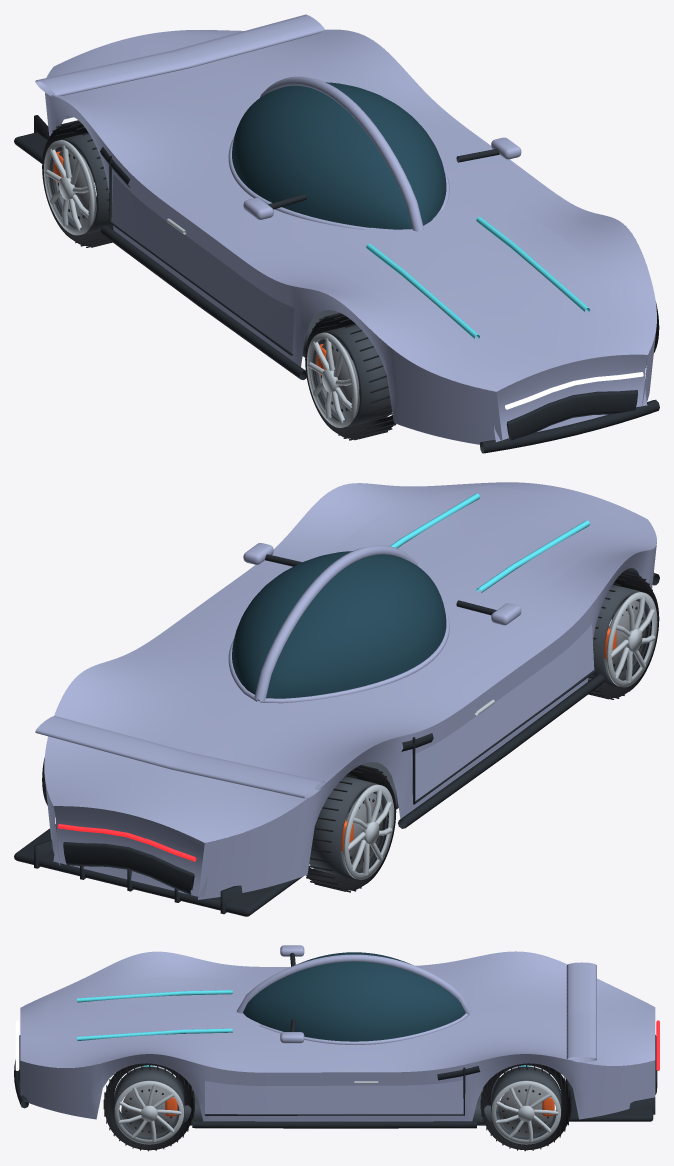
Rendered from concept-aurora.glb.
3 views of the same model, one above another, from view 1: azimuth 30°, elevation 25°; view 2: azimuth 150°, elevation 25°; view 3: azimuth 270°, elevation 25° (orthographic). The views are drawn at different scales.
Visible parts, largest first — view 1: Sculpted unibody upper shell, Hood, RoofGlass_canopy, SidePanelL_arched_fender_skin, DoorL, Wing, RimFrontL_layered_forged, FrontBumper, RimRearL_layered_forged, FrontBumper_carbon_inlet, RockerL, Roof_structural_spine (+11 smaller); view 2: Sculpted unibody upper shell, RoofGlass_canopy, Hood, SidePanelL_arched_fender_skin, DoorL, Wing, RimRearL_layered_forged, RearBumper, RimFrontL_layered_forged, Diffuser, RearBumper_carbon_inlet, RockerL (+10 smaller); view 3: Sculpted unibody upper shell, SidePanelR_arched_fender_skin, RoofGlass_canopy, Hood, DoorR, RimFrontR_layered_forged, RimRearR_layered_forged, Wing, RockerR, Roof_structural_spine, TireFrontR_directional_tread, TireRearR_directional_tread (+8 smaller).
Boxes of the visible parts, x1=… form: Sculpted unibody upper shell: x1=46, y1=29, x2=656, y2=391; Hood: x1=304, y1=199, x2=622, y2=366; RoofGlass_canopy: x1=232, y1=82, x2=446, y2=229; SidePanelL_arched_fender_skin: x1=45, y1=93, x2=502, y2=444; DoorL: x1=111, y1=170, x2=294, y2=353; Wing: x1=35, y1=14, x2=325, y2=96; RimFrontL_layered_forged: x1=307, y1=324, x2=391, y2=427; FrontBumper: x1=494, y1=354, x2=647, y2=442; RimRearL_layered_forged: x1=44, y1=133, x2=113, y2=235; FrontBumper_carbon_inlet: x1=506, y1=390, x2=637, y2=440; RockerL: x1=100, y1=225, x2=306, y2=379; Roof_structural_spine: x1=260, y1=76, x2=423, y2=231; Sculpted unibody upper shell: x1=44, y1=482, x2=656, y2=842; RoofGlass_canopy: x1=232, y1=551, x2=446, y2=700; Hood: x1=326, y1=485, x2=622, y2=609; SidePanelL_arched_fender_skin: x1=198, y1=543, x2=656, y2=899; DoorL: x1=411, y1=624, x2=594, y2=800; Wing: x1=35, y1=716, x2=324, y2=798; RimRearL_layered_forged: x1=309, y1=776, x2=394, y2=879; RearBumper: x1=53, y1=806, x2=207, y2=898; RimFrontL_layered_forged: x1=588, y1=584, x2=657, y2=687; Diffuser: x1=14, y1=824, x2=302, y2=916; RearBumper_carbon_inlet: x1=63, y1=842, x2=194, y2=894; RockerL: x1=398, y1=674, x2=604, y2=828; Sculpted unibody upper shell: x1=20, y1=951, x2=655, y2=1072; SidePanelR_arched_fender_skin: x1=20, y1=1054, x2=655, y2=1121; RoofGlass_canopy: x1=243, y1=952, x2=465, y2=1041; Hood: x1=44, y1=977, x2=259, y2=1050; DoorR: x1=205, y1=1080, x2=463, y2=1114; RimFrontR_layered_forged: x1=114, y1=1066, x2=184, y2=1144; RimRearR_layered_forged: x1=491, y1=1066, x2=561, y2=1144; Wing: x1=566, y1=962, x2=596, y2=1062; RockerR: x1=192, y1=1121, x2=476, y2=1128; Roof_structural_spine: x1=236, y1=954, x2=471, y2=1014; TireFrontR_directional_tread: x1=103, y1=1063, x2=194, y2=1151; TireRearR_directional_tread: x1=480, y1=1063, x2=571, y2=1151.
Size of the model in its own units: 2.04 by 1.28 by 5.11.
